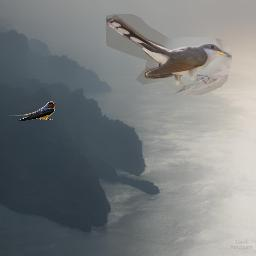Cuckoo: (106, 14, 232, 95)
Swallow: (9, 101, 56, 121)
